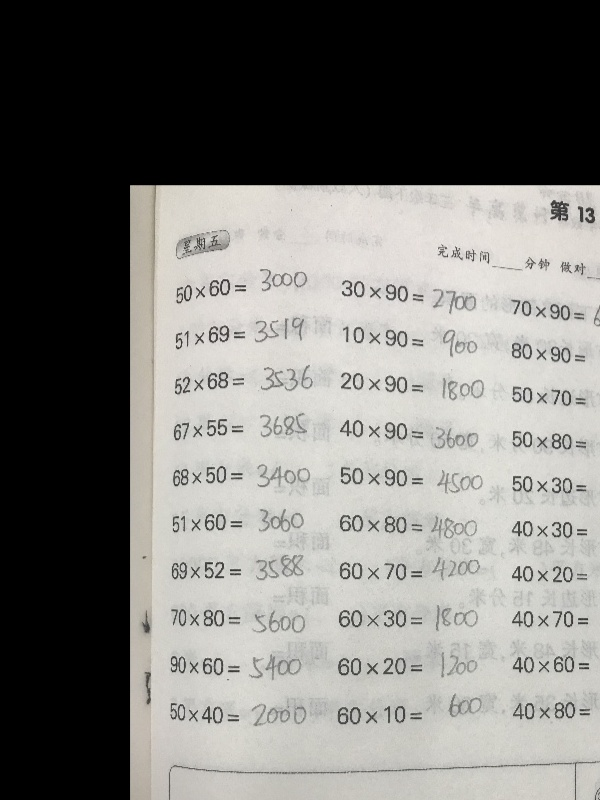equation: (172, 261, 310, 308), (166, 694, 308, 735), (336, 690, 485, 729), (169, 360, 313, 398), (169, 410, 313, 448), (335, 552, 483, 586), (337, 370, 485, 404), (335, 602, 483, 635), (168, 548, 304, 583), (336, 465, 484, 497), (339, 325, 481, 358), (168, 461, 314, 493), (168, 505, 314, 537), (166, 651, 305, 684), (167, 604, 306, 637), (334, 650, 480, 681), (335, 511, 481, 542), (338, 279, 480, 310), (336, 419, 482, 449), (171, 318, 308, 348), (507, 336, 600, 373), (508, 424, 600, 460), (509, 689, 600, 723), (509, 643, 600, 677), (508, 599, 600, 631), (507, 510, 600, 541), (506, 297, 600, 327), (510, 556, 600, 587), (508, 467, 600, 497), (508, 381, 600, 411), (545, 199, 600, 227)
